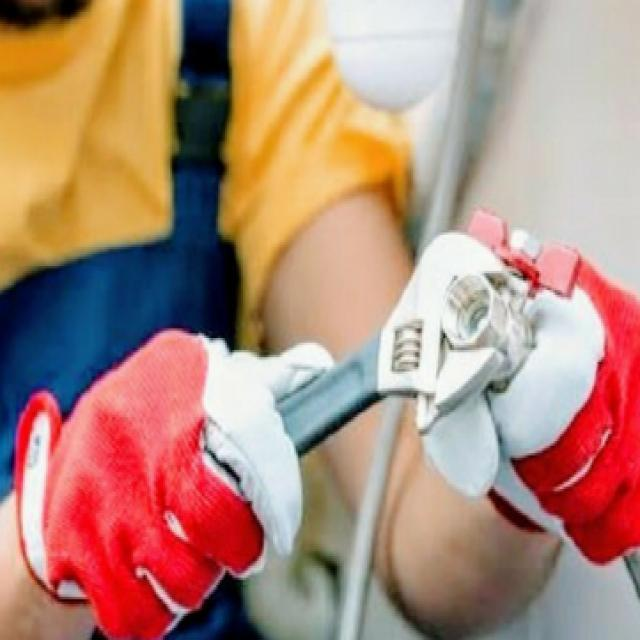gloves: (7, 314, 337, 640), (501, 208, 640, 580)
